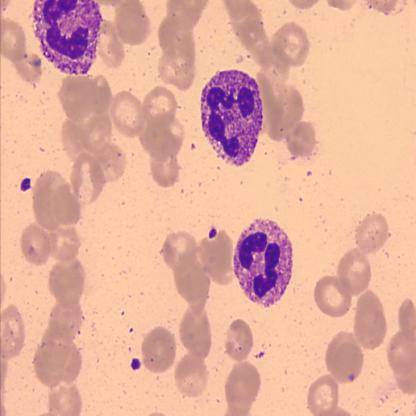Segmented neutrophil: (198, 66, 265, 169), (232, 216, 294, 308)
